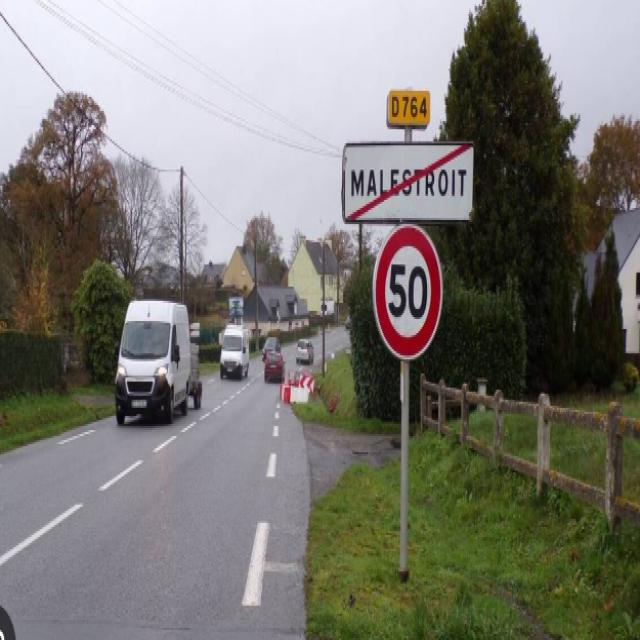speed_50: (372, 227, 444, 362)
